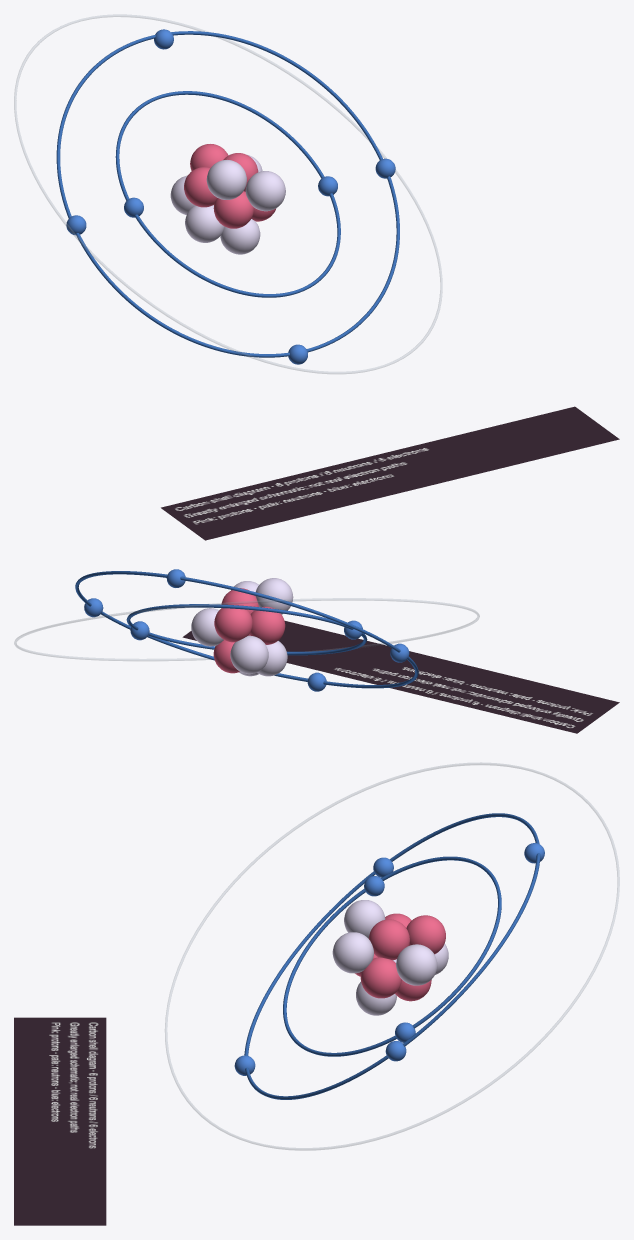
Rendered from atoms.glb.
3 views of the same model, one above another, from view 1: azimuth 30°, elevation 25°; view 2: azimuth 150°, elevation 25°; view 3: azimuth 270°, elevation 25° (orthographic). The views are drawn at different scales.
Parts seen in each view (by area): view 1: atoms_authored_teaching_model, Scale_and_credit; view 2: atoms_authored_teaching_model, Scale_and_credit; view 3: atoms_authored_teaching_model, Scale_and_credit.
Boxes of the visible parts, left/top/right/bottom form: atoms_authored_teaching_model: left=14, top=14, right=442, bottom=373; Scale_and_credit: left=161, top=406, right=619, bottom=540; atoms_authored_teaching_model: left=14, top=569, right=479, bottom=691; Scale_and_credit: left=182, top=621, right=619, bottom=733; atoms_authored_teaching_model: left=165, top=762, right=619, bottom=1150; Scale_and_credit: left=14, top=1017, right=106, bottom=1225.
Bounding box in the file's own units: 0.4835 × 0.3105 × 0.596.
Materials: 7 (1 with a texture image).
